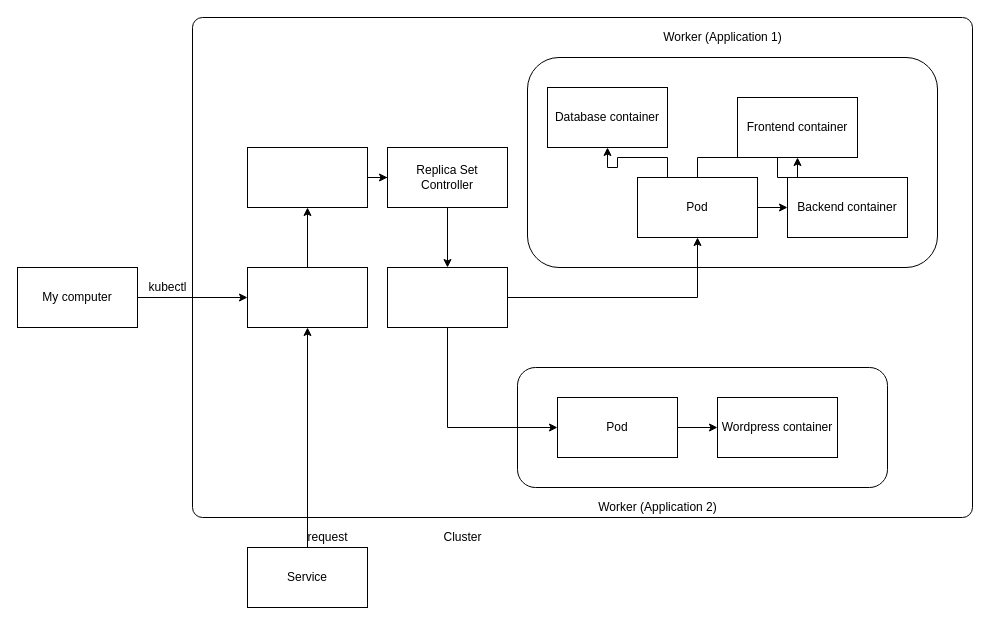
The diagram is 990 pixels wide and 625 high, and some of its shapes have lost their labels. The shapes that lost their labels are listed below. From the top down, each one's centre as x and y in pixels, then its label:
At [307,177]: "Deployment Controller".
At [307,297]: "Deployment".
At [447,297]: "Replica Set".
